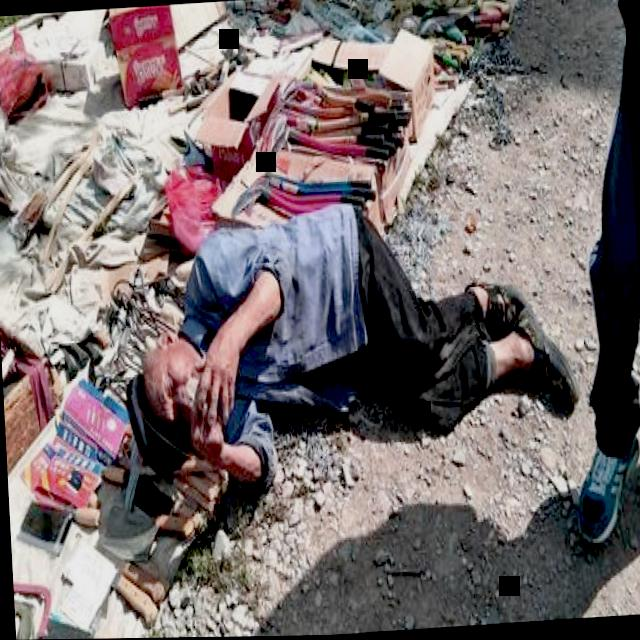Fall-Detected: (100, 172, 598, 616)
